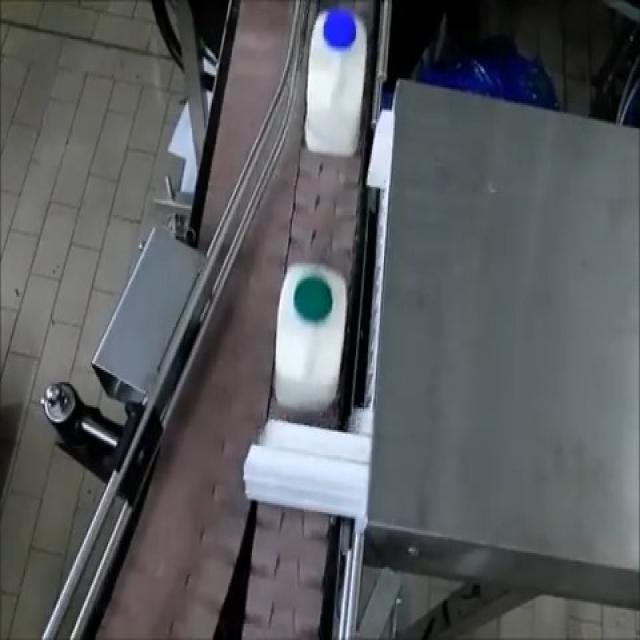milk: (304, 9, 376, 170), (284, 253, 350, 420)
